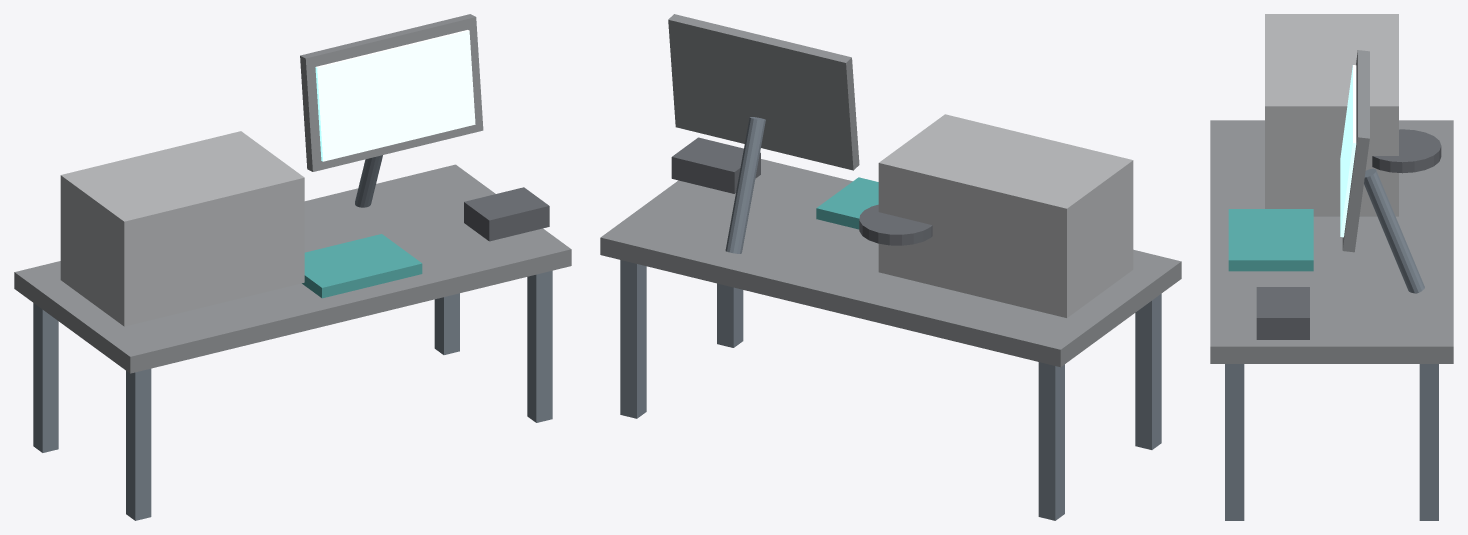
Rendered from computer-bench.glb.
3 renders of one model, left to right at view 1: azimuth 30°, elevation 25°; view 2: azimuth 150°, elevation 25°; view 3: azimuth 270°, elevation 25°, orthographic. The views are drawn at different scales.
Parts seen in each view (by area): view 1: Chassis, Desk, MonitorScreen, Monitor, Tray, Leg, Leg.002, Leg.001, Module, Leg.003, MonitorArm; view 2: Desk, Chassis, Monitor, Leg.001, Leg.003, Leg, Module, MonitorArm, Fan, Tray, Leg.002; view 3: Desk, Chassis, Tray, Leg.002, Leg.003, Module, Monitor, MonitorArm, Fan, MonitorScreen.
Part boxes in pixels (x1,y1,x2,y2): Chassis: (60, 131, 304, 326); Desk: (14, 164, 571, 373); MonitorScreen: (315, 30, 475, 161); Monitor: (300, 14, 483, 171); Tray: (302, 234, 422, 298); Leg: (126, 368, 151, 520); Leg.002: (527, 270, 552, 422); Leg.001: (33, 303, 58, 452); Module: (464, 187, 549, 241); Leg.003: (434, 293, 459, 354); MonitorArm: (355, 155, 382, 207); Desk: (600, 159, 1181, 367); Chassis: (878, 114, 1133, 317); Monitor: (668, 14, 859, 170); Leg.001: (1038, 362, 1064, 520); Leg.003: (620, 260, 646, 418); Leg: (1135, 294, 1161, 449); Module: (671, 137, 760, 193); MonitorArm: (725, 117, 765, 253); Fan: (859, 204, 932, 245); Tray: (816, 177, 878, 229); Leg.002: (717, 283, 743, 347); Desk: (1210, 120, 1453, 363); Chassis: (1265, 14, 1398, 216); Tray: (1228, 209, 1313, 271); Leg.002: (1225, 364, 1244, 520); Leg.003: (1419, 364, 1438, 520); Module: (1256, 287, 1309, 339); Monitor: (1342, 50, 1369, 252); MonitorArm: (1364, 168, 1424, 293); Fan: (1372, 129, 1441, 173); MonitorScreen: (1340, 65, 1356, 237).
Size of the model in its own units: 2.2 by 1.71 by 1.
